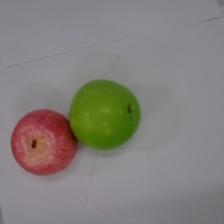green: (69, 79, 141, 151)
red: (10, 109, 78, 177)
